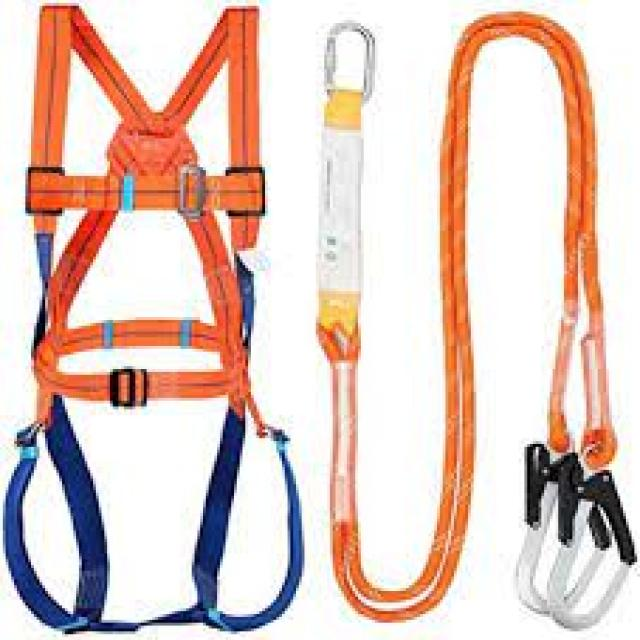Harness: (3, 2, 306, 636)
